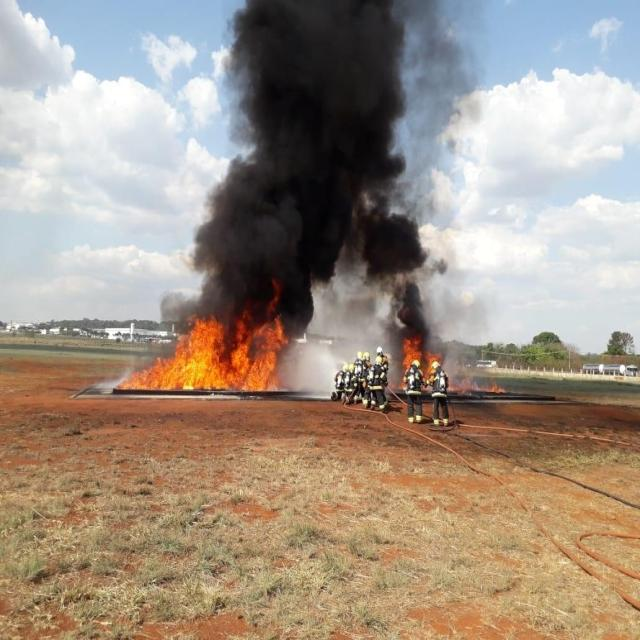Fire: (125, 307, 288, 396), (400, 338, 425, 363), (425, 353, 438, 376), (489, 383, 505, 394)
